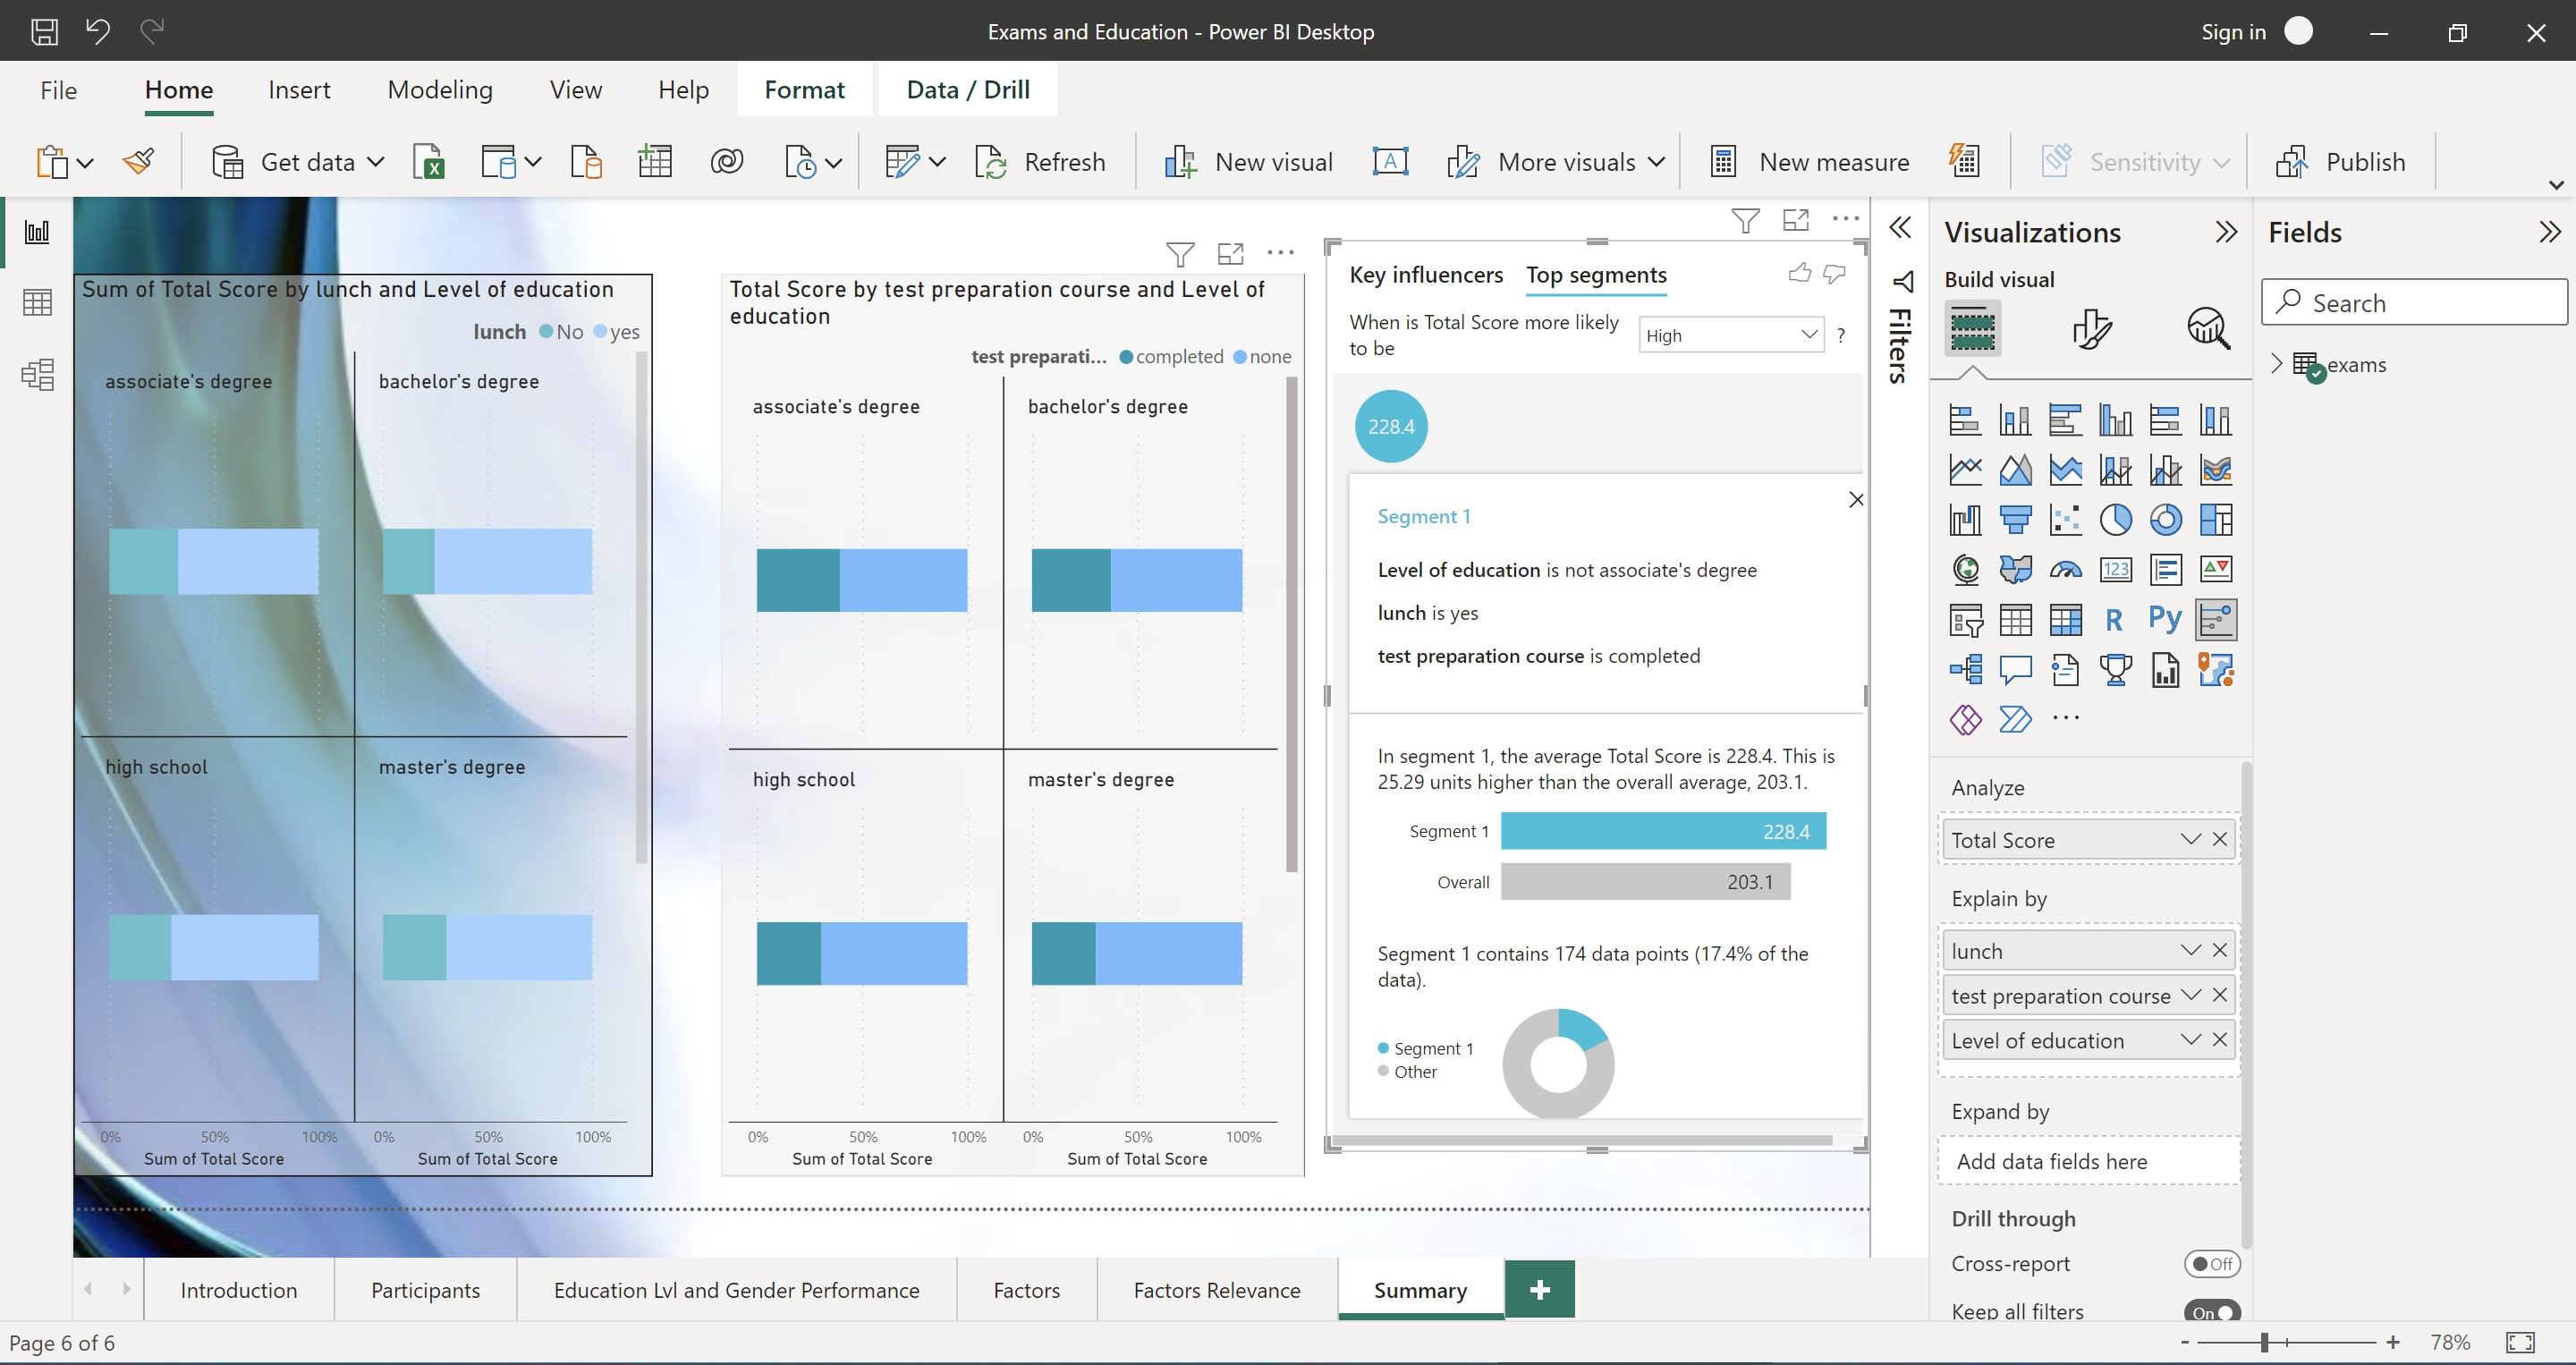

Layout of this report page (visuals, bound fields, positions):
{"tool":"powerbi","page":{"name":"Summary","canvas":[1280,720],"ordinal":5},"visuals":[{"type":"hundredPercentStackedBarChart","fields":{"Series":["exams.lunch"],"Rows":["exams.Level of education"],"Y":["Sum(exams.Total Score)"]},"box":[0,55.2,413.2,643.3],"z":0},{"type":"keyDriversVisual","fields":{"ExplainBy":["exams.lunch","exams.test preparation course","exams.Level of education"],"Target":["exams.Total Score"]},"box":[892.6,30.6,387.4,650.7],"z":1000},{"type":"hundredPercentStackedBarChart","title":"Total Score by test preparation course and Level of education","fields":{"Series":["exams.test preparation course"],"Rows":["exams.Level of education"],"Y":["Sum(exams.Total Score)"]},"box":[461.6,55.2,415.9,643.3],"z":2000}]}

Visuals, with their boxes on the page's 1280x720 design canvas (x1, y1, x2, y2). These are canvas units, not pixel positions in the 2576x1365 screenshot, which may show the page scaled, cropped or inside an application window:
hundredPercentStackedBarChart - exams.lunch x exams.Level of education: 0/55/413/698
keyDriversVisual - exams.lunch x exams.test preparation course: 893/31/1280/681
"Total Score by test preparation course and Level of education" hundredPercentStackedBarChart: 462/55/878/698
